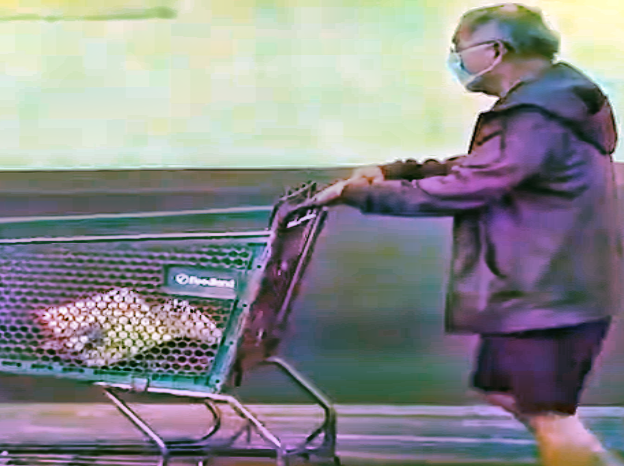mask_weared_incorrect: (441, 3, 517, 95)
